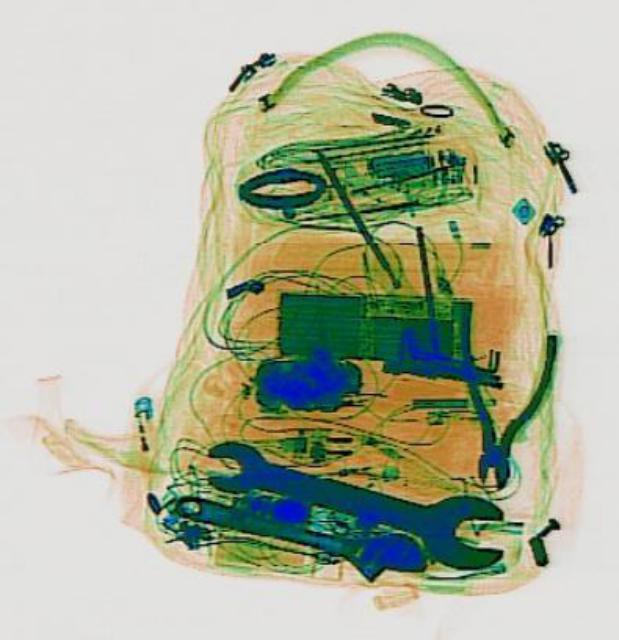Pliers: (443, 298, 557, 490)
Wrench: (194, 420, 517, 578), (166, 468, 433, 594)
